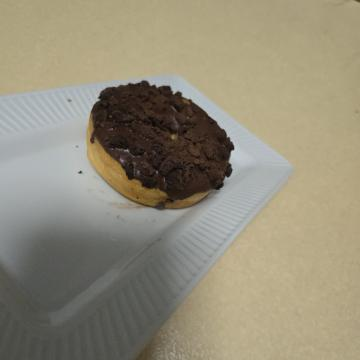doughnut: (68, 108, 221, 295)
